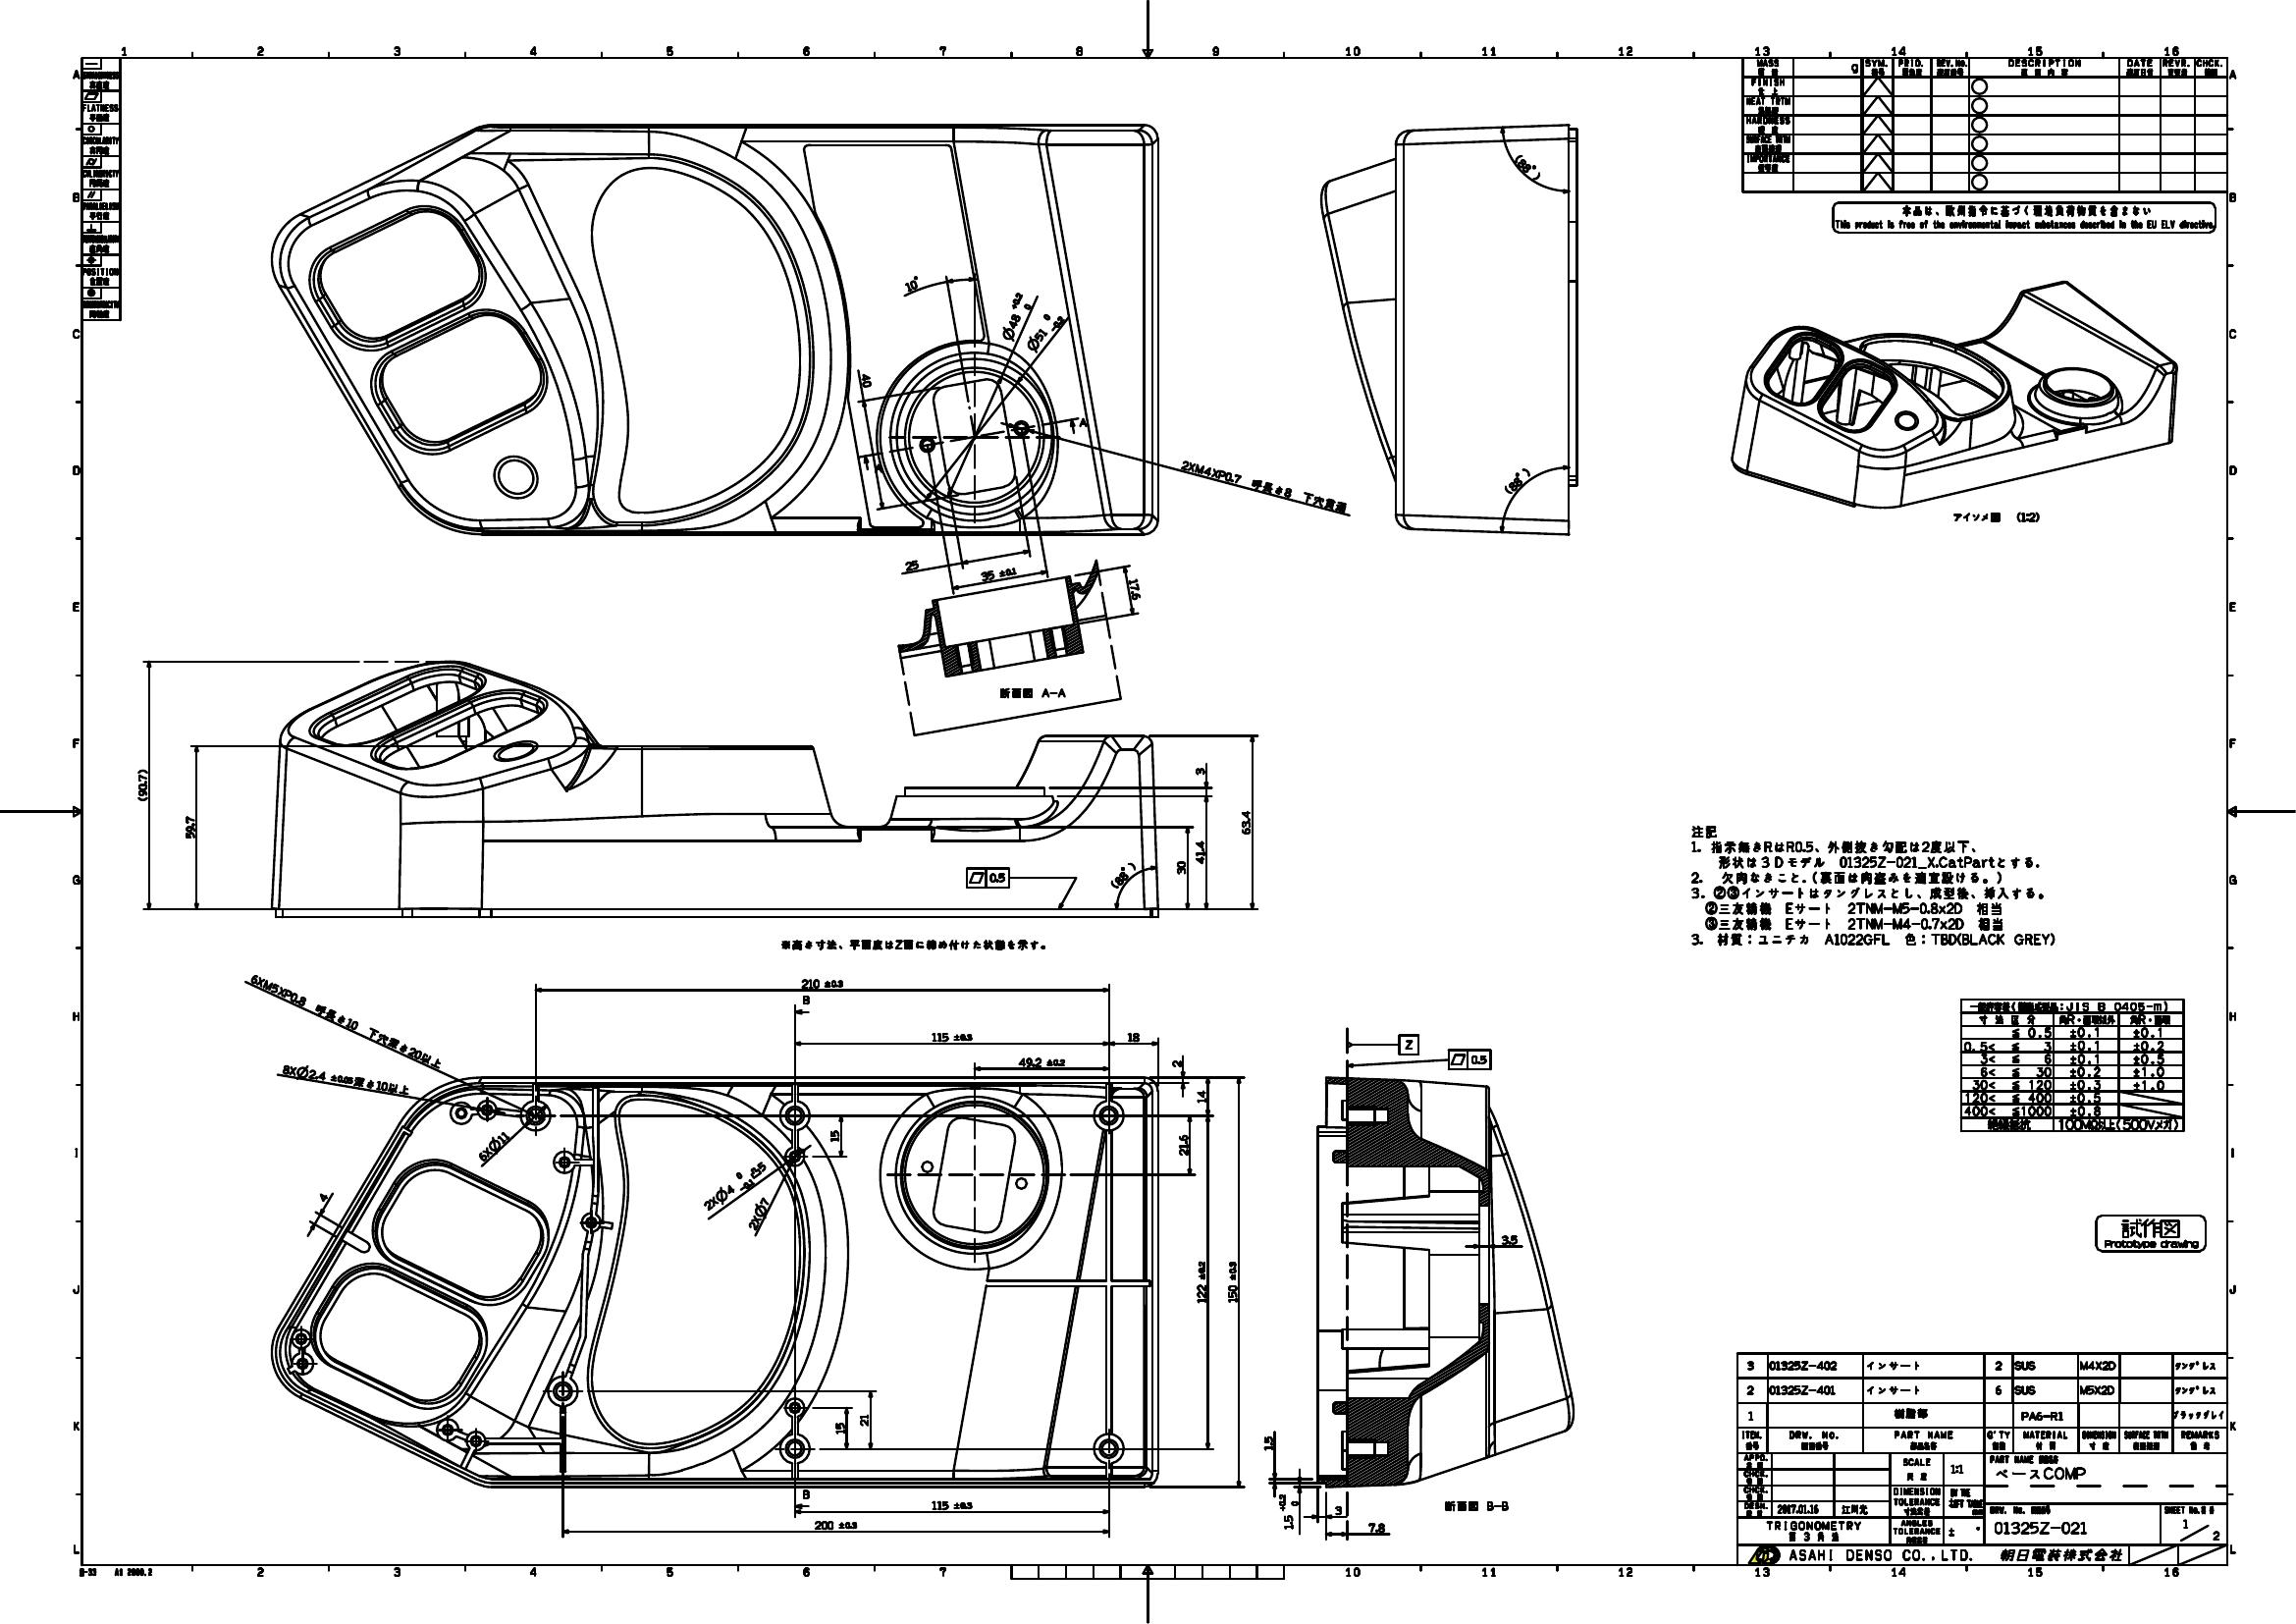anntotation_text: (1685, 821, 2061, 947), (1832, 202, 2217, 234), (778, 935, 1049, 953), (2094, 1213, 2206, 1251), (1950, 508, 2041, 524), (998, 685, 1066, 701), (964, 866, 1010, 889), (1442, 1497, 1511, 1512), (1448, 1049, 1491, 1070), (79, 1566, 153, 1577), (1296, 496, 1351, 508), (1398, 1033, 1418, 1055), (799, 1489, 812, 1501), (1079, 417, 1087, 429), (799, 995, 812, 1004), (877, 462, 882, 471)
dimension_text: (241, 1009, 455, 1028), (279, 1067, 413, 1084), (694, 1176, 773, 1195), (1177, 473, 1298, 485), (1029, 306, 1054, 353), (1005, 292, 1028, 339), (1277, 1492, 1296, 1531), (799, 977, 847, 990), (1224, 1258, 1237, 1306), (738, 1207, 778, 1222), (929, 1030, 975, 1042), (1195, 1258, 1207, 1304), (1017, 1056, 1066, 1067), (135, 765, 148, 805), (975, 568, 1021, 578), (813, 1519, 857, 1529), (1500, 475, 1532, 489), (1107, 868, 1142, 881), (931, 1499, 971, 1510), (473, 1141, 511, 1151), (183, 814, 197, 842), (1511, 162, 1544, 172), (1177, 1132, 1189, 1160), (1195, 837, 1205, 865), (901, 276, 921, 290), (1173, 858, 1188, 877), (1240, 808, 1249, 838), (1130, 576, 1140, 601), (826, 1127, 840, 1144), (1365, 1522, 1388, 1533), (1124, 1030, 1140, 1044), (1261, 1434, 1274, 1452), (861, 371, 873, 388), (903, 557, 922, 568), (857, 1411, 870, 1427), (1500, 1234, 1518, 1244), (834, 1418, 845, 1434), (1191, 765, 1205, 775), (1196, 1090, 1205, 1104), (1333, 1504, 1342, 1515), (1172, 1058, 1182, 1067)
object: (265, 121, 1158, 534), (274, 1077, 1158, 1485), (271, 661, 1159, 917), (1318, 123, 1578, 536), (1316, 1077, 1574, 1489), (1734, 281, 2177, 508), (896, 561, 1098, 677)
title_block: (1736, 1353, 2226, 1564), (1741, 56, 2226, 192), (1960, 998, 2184, 1132), (81, 56, 119, 320)
